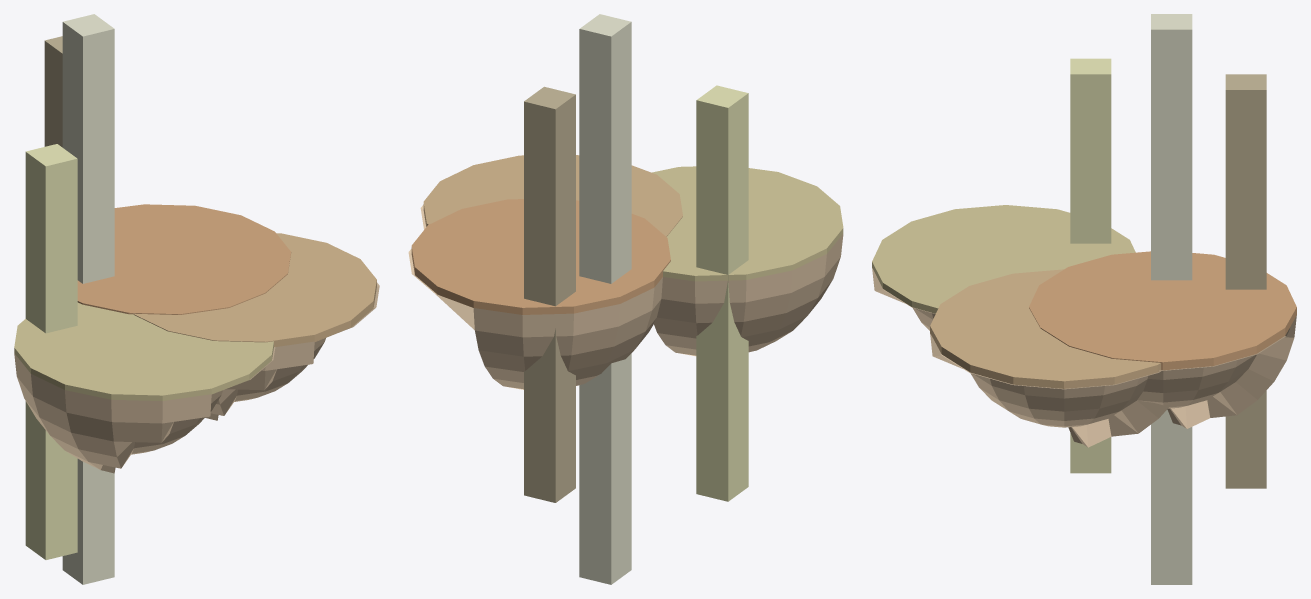
The model's file is yellow 1.fbx.
The picture shows the model from 3 angles, left to right: view 1: azimuth 30°, elevation 25°; view 2: azimuth 150°, elevation 25°; view 3: azimuth 270°, elevation 25°; orthographic projection.
Parts seen in each view (by area): view 1: Plane.002, Cube.002, Plane.001, Cube, Plane, Sphere.003, Sphere, Cube.001; view 2: Cube.002, Cube, Cube.001, Plane.002, Plane.001, Sphere.004, Sphere.003, Plane; view 3: Plane.002, Cube.002, Plane.001, Plane, Cube.001, Cube, Sphere, Sphere.004.
Part boxes in pixels (x1=…): Plane.002: x1=77, y1=204, x2=291, y2=314; Cube.002: x1=62, y1=14, x2=114, y2=584; Plane.001: x1=14, y1=302, x2=273, y2=401; Cube: x1=25, y1=144, x2=77, y2=559; Plane: x1=133, y1=233, x2=376, y2=346; Sphere.003: x1=14, y1=347, x2=275, y2=473; Sphere: x1=205, y1=282, x2=379, y2=420; Cube.001: x1=44, y1=36, x2=62, y2=147; Cube.002: x1=579, y1=14, x2=631, y2=584; Cube: x1=696, y1=85, x2=748, y2=501; Cube.001: x1=524, y1=86, x2=575, y2=502; Plane.002: x1=411, y1=199, x2=670, y2=314; Plane.001: x1=652, y1=166, x2=843, y2=281; Sphere.004: x1=408, y1=249, x2=662, y2=389; Sphere.003: x1=653, y1=234, x2=843, y2=356; Plane: x1=423, y1=155, x2=682, y2=236; Plane.002: x1=1029, y1=251, x2=1296, y2=370; Cube.002: x1=1151, y1=14, x2=1192, y2=584; Plane.001: x1=872, y1=205, x2=1135, y2=313; Plane: x1=930, y1=269, x2=1160, y2=388; Cube.001: x1=1225, y1=74, x2=1266, y2=488; Cube: x1=1070, y1=58, x2=1111, y2=473; Sphere: x1=930, y1=333, x2=1170, y2=447; Sphere.004: x1=1137, y1=315, x2=1296, y2=428.
Bounding box in the file's own units: 380 × 552 × 383.
